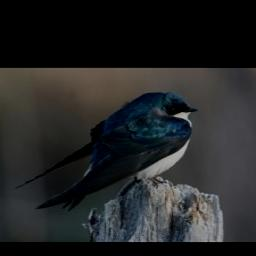Swallow: (13, 91, 197, 211)
